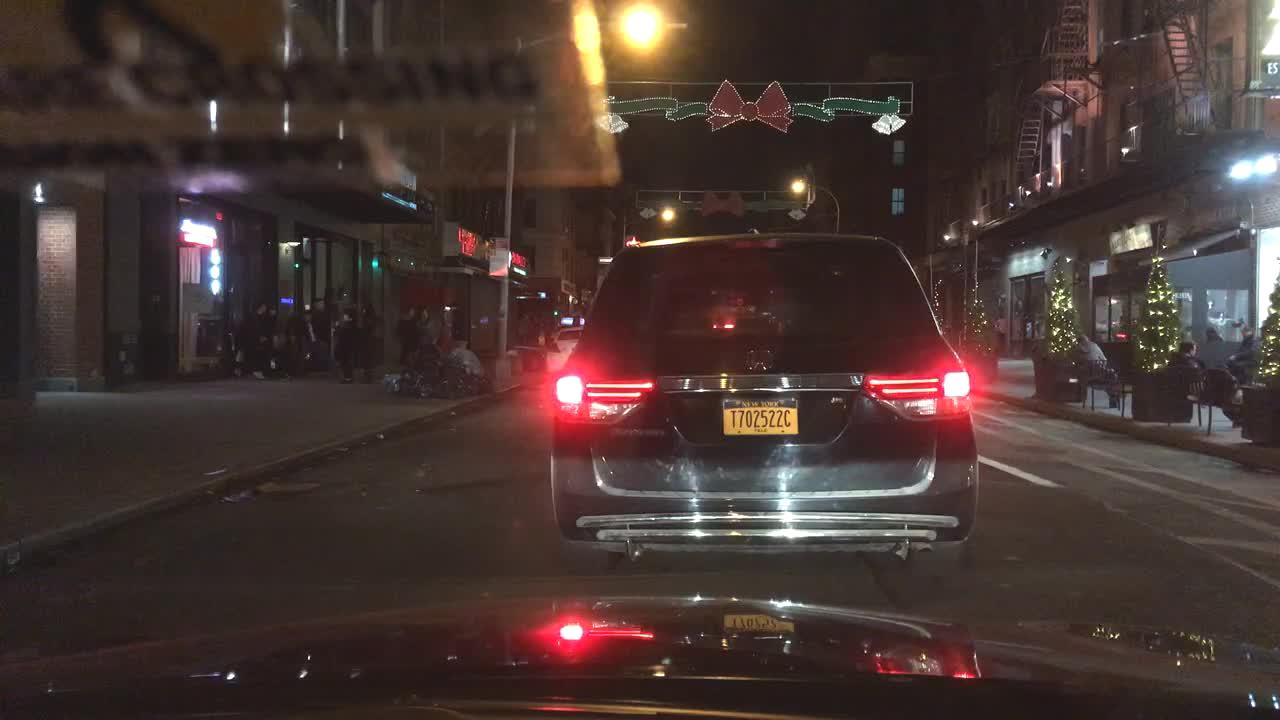acura: (744, 345, 792, 377)
